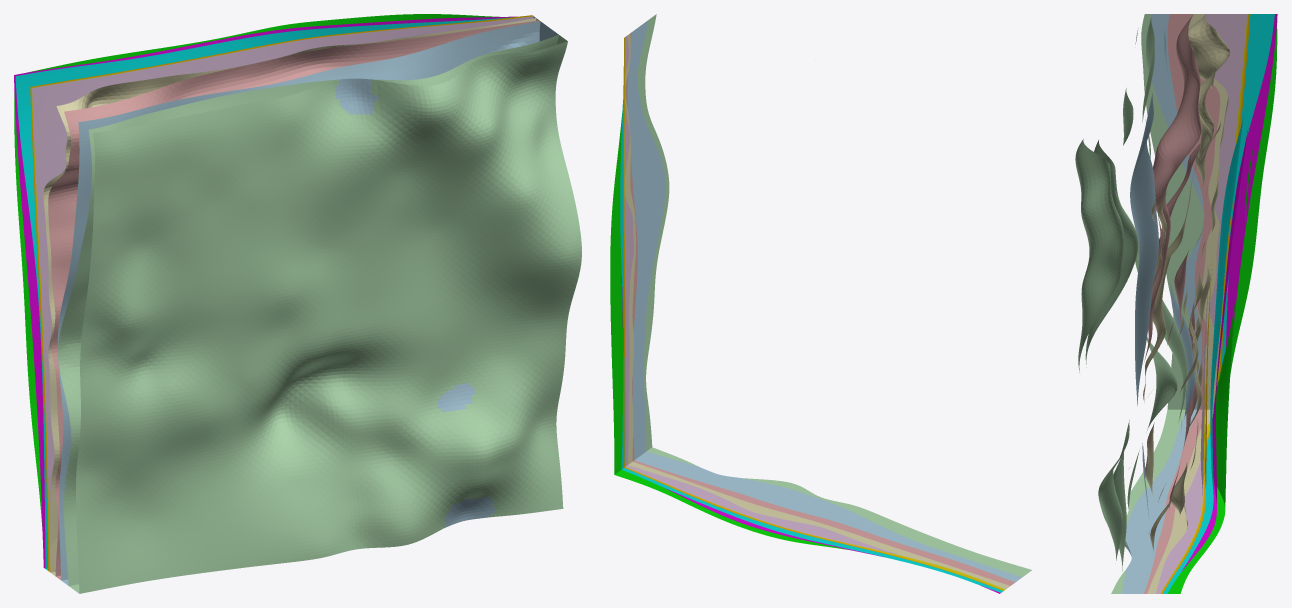
File: square_direct_ard_pinchout_geological_model_z20.glb
The picture shows the model from 3 angles, left to right: view 1: azimuth 30°, elevation 25°; view 2: azimuth 150°, elevation 25°; view 3: azimuth 270°, elevation 25°; orthographic projection. The views are drawn at different scales.
Visible parts, largest first — view 1: L01, L02, L03, L05, L08, L04, L09, L10, L07, L06; view 2: L02, L01, L10, L05, L04, L03, L08, L07, L06, L09; view 3: L01, L02, L03, L04, L05, L08, L10, L09, L07, L06.
Boxes of the visible parts, bbox=[...] form: L01: bbox=[58, 35, 581, 593]; L02: bbox=[57, 21, 558, 585]; L03: bbox=[48, 20, 539, 579]; L05: bbox=[32, 16, 535, 541]; L08: bbox=[15, 17, 514, 570]; L04: bbox=[43, 18, 538, 576]; L09: bbox=[14, 16, 516, 568]; L10: bbox=[14, 14, 499, 526]; L07: bbox=[30, 15, 532, 570]; L06: bbox=[31, 16, 533, 572]; L02: bbox=[627, 20, 1022, 582]; L01: bbox=[637, 14, 1031, 576]; L10: bbox=[610, 111, 848, 549]; L05: bbox=[624, 35, 900, 555]; L04: bbox=[624, 33, 1009, 589]; L03: bbox=[625, 33, 1015, 585]; L08: bbox=[620, 100, 1003, 592]; L07: bbox=[623, 37, 1003, 590]; L06: bbox=[624, 37, 1005, 590]; L09: bbox=[621, 277, 1000, 593]; L01: bbox=[1075, 14, 1203, 593]; L02: bbox=[1121, 14, 1204, 593]; L03: bbox=[1143, 14, 1220, 593]; L04: bbox=[1143, 14, 1229, 593]; L05: bbox=[1155, 14, 1247, 593]; L08: bbox=[1163, 14, 1274, 593]; L10: bbox=[1167, 23, 1277, 593]; L09: bbox=[1182, 14, 1277, 570]; L07: bbox=[1161, 14, 1250, 593]; L06: bbox=[1160, 14, 1248, 593].
Bounding box in the file's own units: 12800 × 12800 × 5928.
